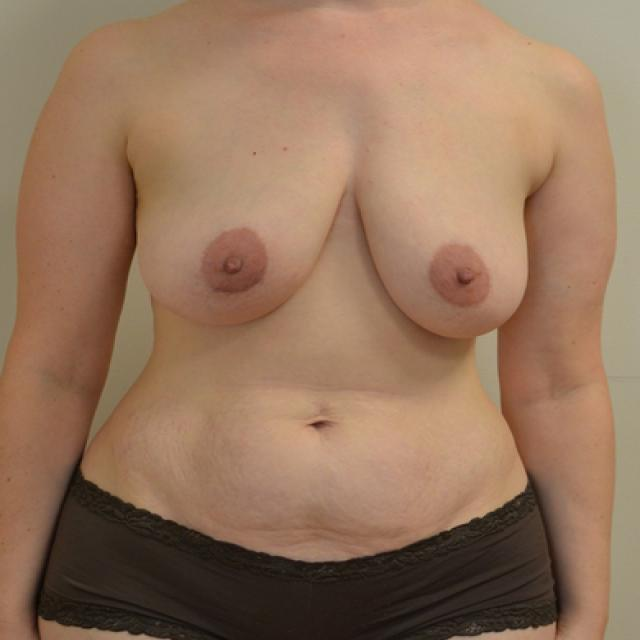Seno ileso: (129, 136, 348, 344), (351, 137, 537, 356)
